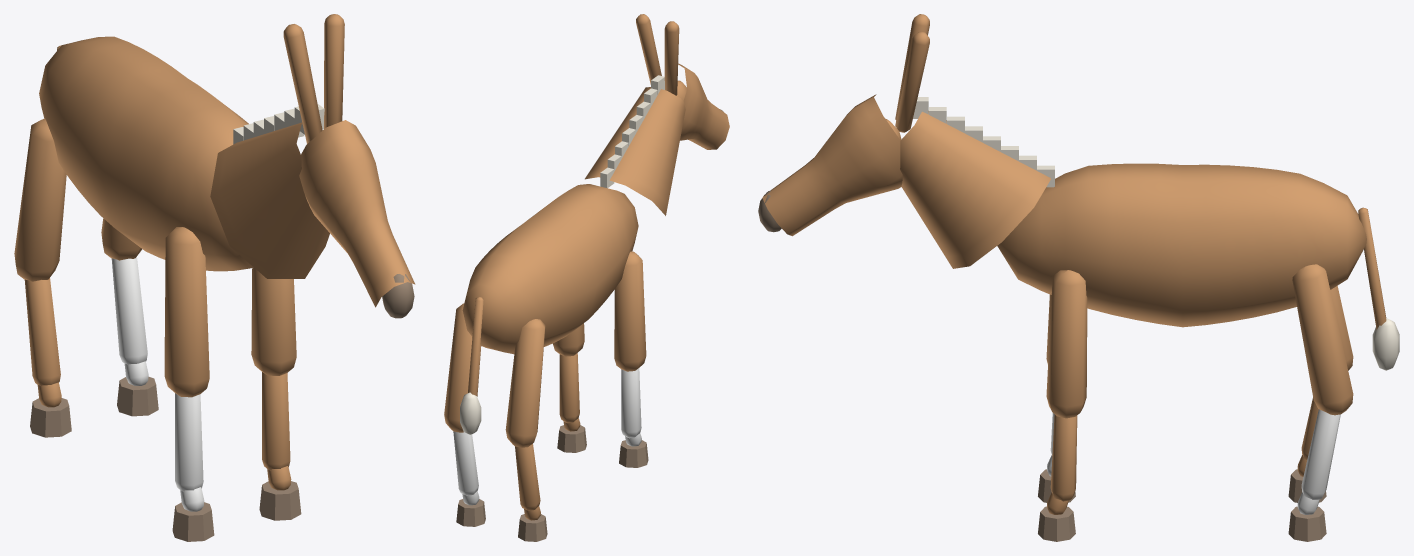
File: donkey-standing-chestnut.glb
3 views of the same model, side by side, from view 1: azimuth 30°, elevation 25°; view 2: azimuth 150°, elevation 25°; view 3: azimuth 270°, elevation 25° (orthographic). The views are drawn at different scales.
Visible parts, largest first — view 1: donkey-standing-chestnut; view 2: donkey-standing-chestnut; view 3: donkey-standing-chestnut.
Boxes of the visible parts, left/top/right/bottom form: donkey-standing-chestnut: left=14, top=14, right=415, bottom=541; donkey-standing-chestnut: left=444, top=14, right=729, bottom=541; donkey-standing-chestnut: left=758, top=14, right=1399, bottom=541.
Size of the model in its own units: 0.3992 by 1.67 by 1.98.
